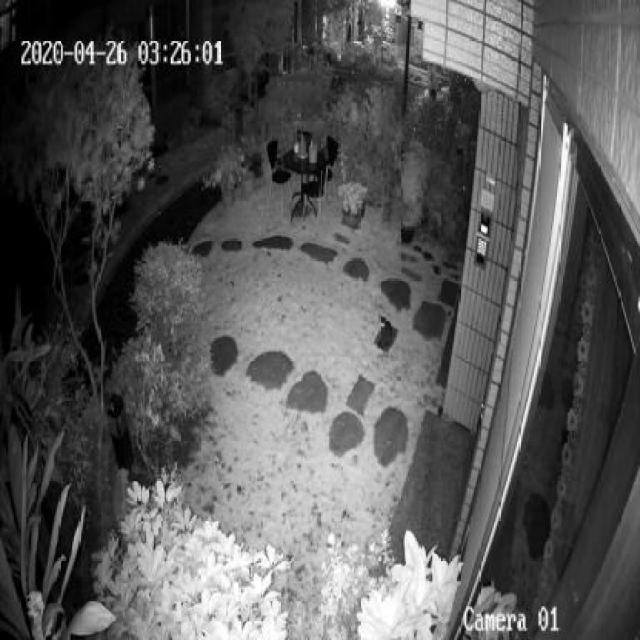animals: (374, 311, 395, 354)
